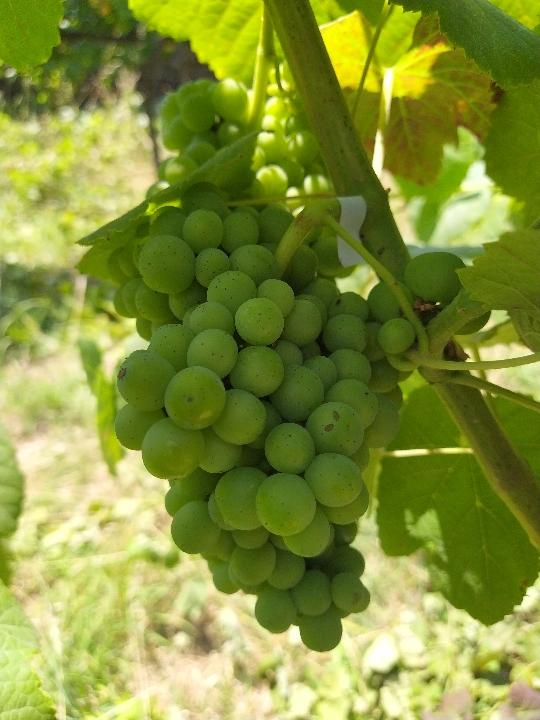grape: (113, 182, 491, 655)
